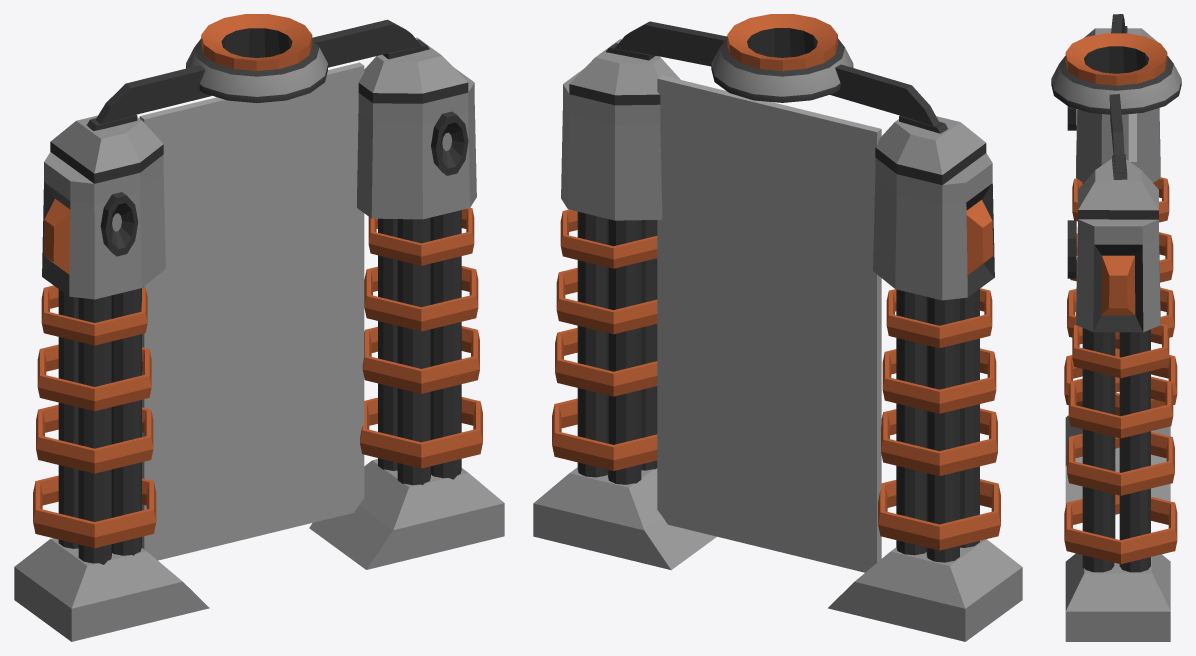
File: Death_Wall_Asset.fbx
3 renders of one model, left to right at view 1: azimuth 30°, elevation 25°; view 2: azimuth 150°, elevation 25°; view 3: azimuth 270°, elevation 25°, orthographic. The views are drawn at different scales.
Parts seen in each view (by area): view 1: pPlane3; view 2: pPlane3; view 3: pPlane3.
Boxes of the visible parts, <box> form: pPlane3: <box>14,14,504,641</box>; pPlane3: <box>533,14,1022,641</box>; pPlane3: <box>1051,14,1181,641</box>.
Bounding box in the file's own units: 204 × 231 × 56.
